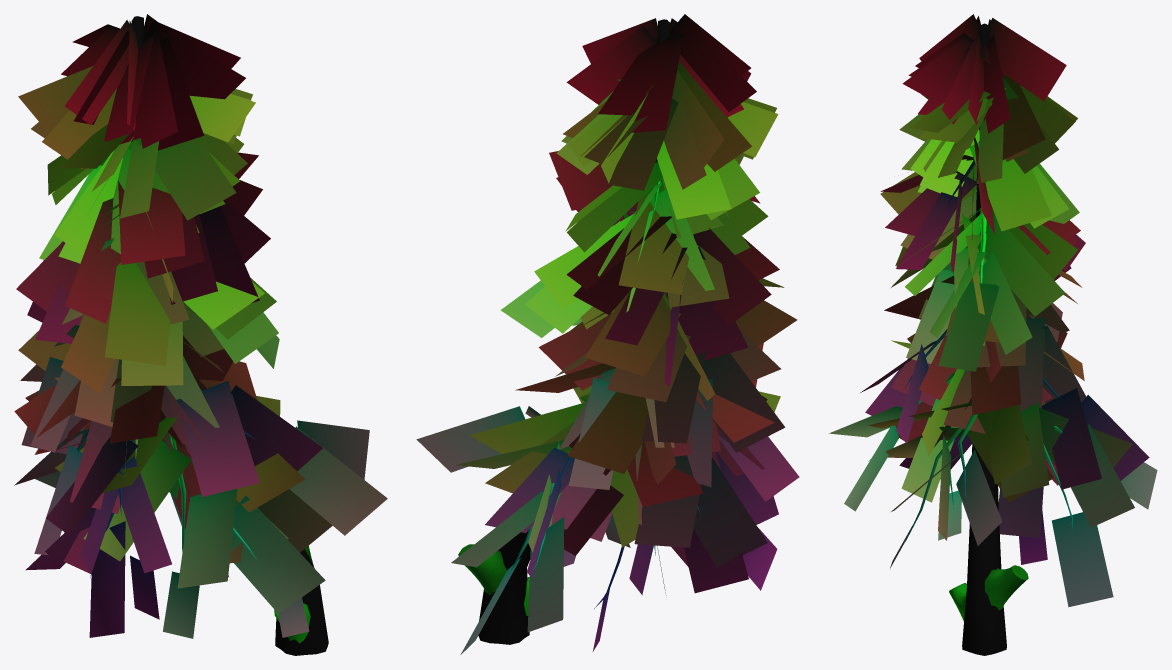
Rendered from M_Pine_3_14.fbx.
3 renders of one model, left to right at view 1: azimuth 30°, elevation 25°; view 2: azimuth 150°, elevation 25°; view 3: azimuth 270°, elevation 25°, orthographic. The views are drawn at different scales.
Parts seen in each view (by area): view 1: Tree_14; view 2: Tree_14; view 3: Tree_14.
Part boxes in pixels (<box>): Tree_14: <box>14,14,387,655</box>; Tree_14: <box>416,14,799,654</box>; Tree_14: <box>829,14,1157,655</box>.
Bounding box in the file's own units: 1748 × 3132 × 1671.
